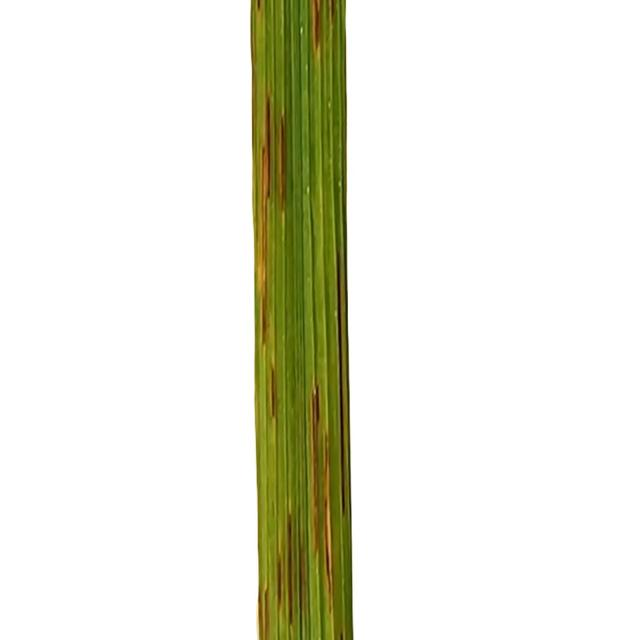Narrow brown: (230, 0, 400, 640)
